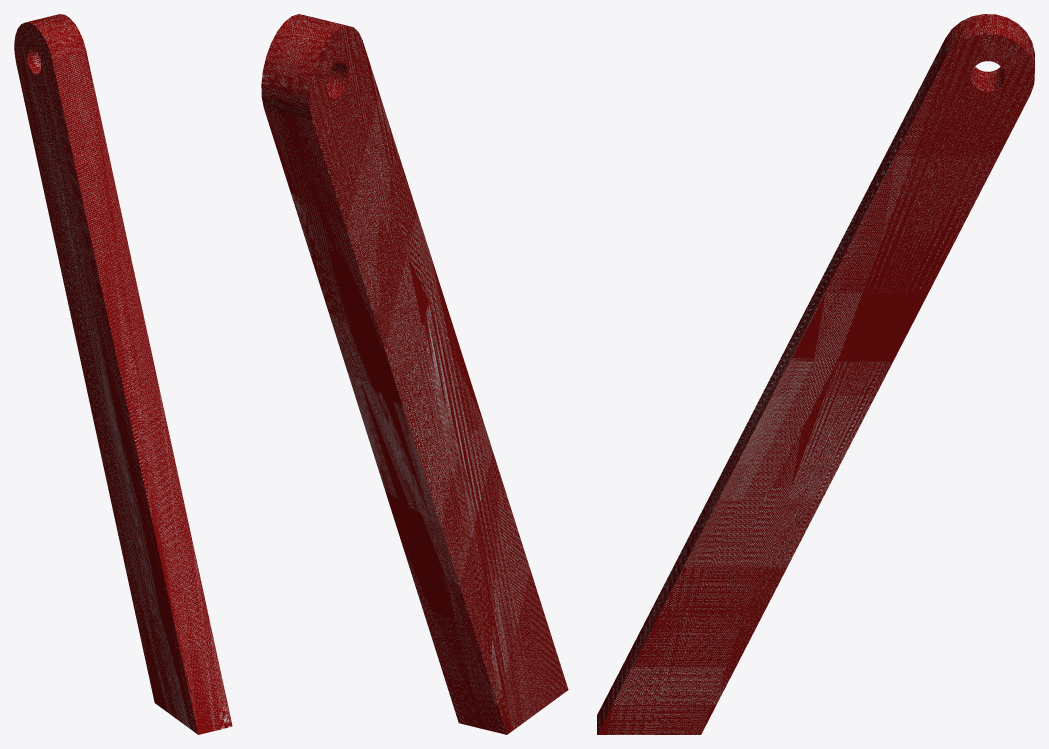
File: original-44.obj
The picture shows the model from 3 angles, left to right: view 1: azimuth 30°, elevation 25°; view 2: azimuth 150°, elevation 25°; view 3: azimuth 270°, elevation 25°; orthographic projection. The views are drawn at different scales.
Visible parts, largest first — view 1: E_-_Handle_Support1/E_-_Handle_Support/mesh15/mesh15-geometry#me; view 2: E_-_Handle_Support1/E_-_Handle_Support/mesh15/mesh15-geometry#me; view 3: E_-_Handle_Support1/E_-_Handle_Support/mesh15/mesh15-geometry#me.
Boxes of the visible parts, box(x1,y1,x2,y2) form: E_-_Handle_Support1/E_-_Handle_Support/mesh15/mesh15-geometry#me: box(14, 14, 232, 734); E_-_Handle_Support1/E_-_Handle_Support/mesh15/mesh15-geometry#me: box(261, 14, 568, 734); E_-_Handle_Support1/E_-_Handle_Support/mesh15/mesh15-geometry#me: box(597, 14, 1034, 734).
Size of the model in its own units: 0.0602 by 0.9883 by 0.5593.
